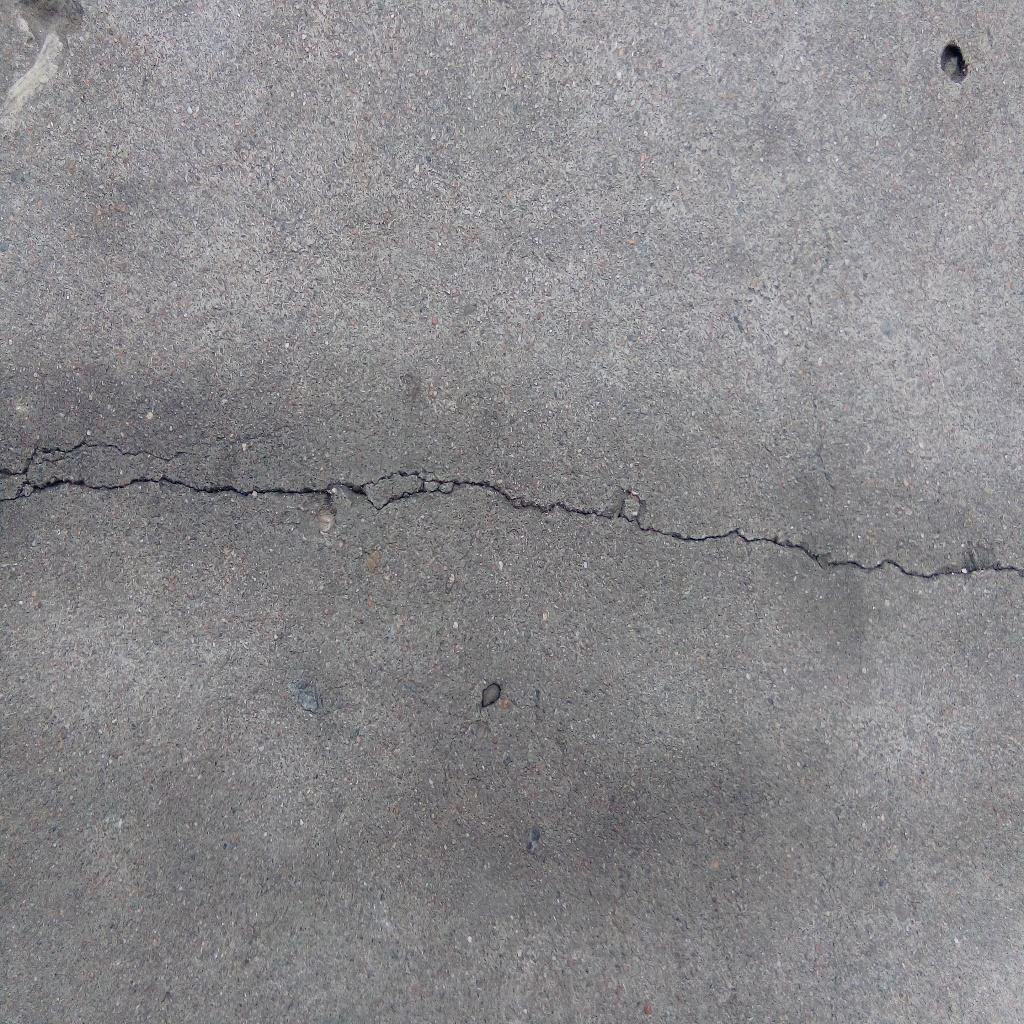Crack: (1, 437, 1024, 581)
Spalling: (17, 1, 86, 54), (939, 37, 968, 84), (480, 682, 501, 708)
